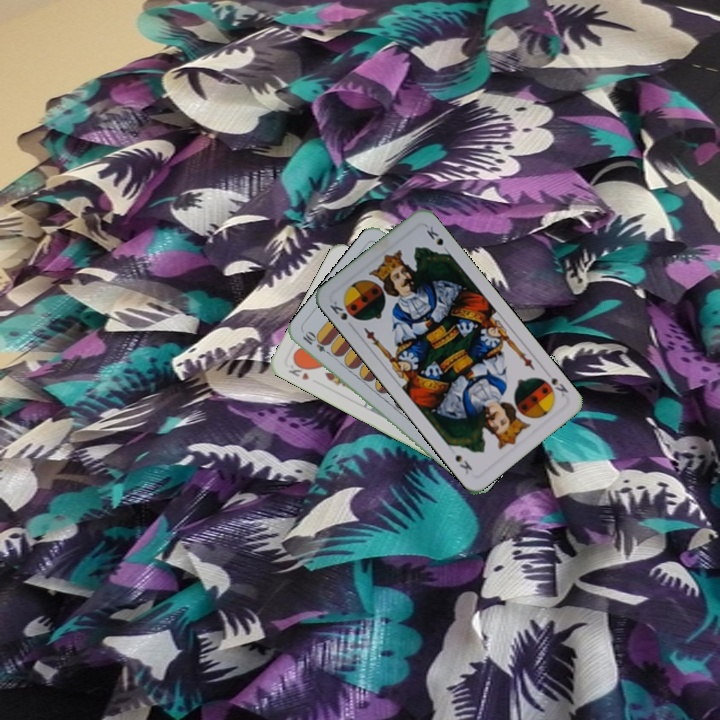E10: (298, 328, 335, 359)
HK: (284, 358, 312, 383)
SK: (326, 297, 357, 331), (547, 373, 571, 399)
